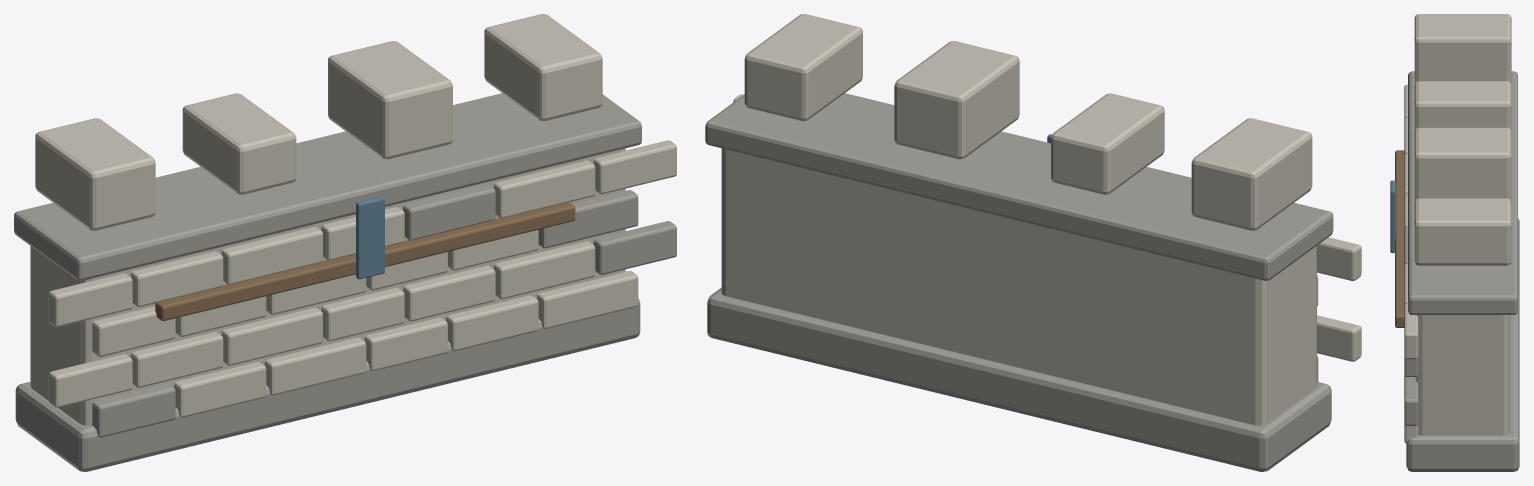
The model's file is Valoria_Authored_Wall_v1.glb.
The picture shows the model from 3 angles, left to right: view 1: azimuth 30°, elevation 25°; view 2: azimuth 150°, elevation 25°; view 3: azimuth 270°, elevation 25°; orthographic projection. The views are drawn at different scales.
Visible parts, largest first — view 1: wall_cap, foundation, wall_core, merlon_2, merlon_0, merlon_3, merlon_1, timber_binding, ashlar_1_5, ashlar_3_5, ashlar_0_2, ashlar_1_2 (+23 smaller); view 2: wall_core, wall_cap, foundation, merlon_2, merlon_0, merlon_3, merlon_1, ashlar_1_0, ashlar_3_0; view 3: wall_core, wall_cap, merlon_2, merlon_3, merlon_0, foundation, merlon_1, timber_binding, ashlar_1_6, ashlar_3_6, blue_ward_marker, ashlar_2_5 (+3 smaller).
Boxes of the visible parts, box(x1,y1,x2,y2) form: wall_cap: box(14, 93, 641, 280); foundation: box(15, 298, 640, 471); wall_core: box(30, 148, 625, 425); merlon_2: box(328, 41, 452, 159); merlon_0: box(35, 118, 155, 230); merlon_3: box(484, 14, 602, 121); merlon_1: box(182, 93, 296, 194); timber_binding: box(155, 202, 575, 321); ashlar_1_5: box(493, 241, 595, 299); ashlar_3_5: box(493, 160, 595, 218); ashlar_0_2: box(264, 337, 366, 395); ashlar_1_2: box(221, 307, 322, 365); wall_core: box(721, 148, 1316, 425); wall_cap: box(705, 93, 1333, 280); foundation: box(707, 287, 1331, 471); merlon_2: box(894, 41, 1019, 159); merlon_0: box(1191, 118, 1312, 230); merlon_3: box(744, 14, 862, 121); merlon_1: box(1051, 93, 1164, 194); ashlar_1_0: box(1317, 315, 1361, 361); ashlar_3_0: box(1317, 237, 1361, 280); wall_core: box(1415, 315, 1510, 435); wall_cap: box(1408, 71, 1517, 314); merlon_2: box(1414, 127, 1511, 201); merlon_3: box(1414, 198, 1511, 265); merlon_0: box(1414, 14, 1511, 82); foundation: box(1406, 218, 1519, 471); merlon_1: box(1414, 81, 1511, 130); timber_binding: box(1395, 150, 1404, 327); ashlar_1_6: box(1404, 375, 1418, 425); ashlar_3_6: box(1404, 303, 1418, 359); blue_ward_marker: box(1390, 180, 1395, 252); ashlar_2_5: box(1404, 357, 1418, 376).
Bounding box in the file's own units: 5.49 × 2.52 × 1.2.
